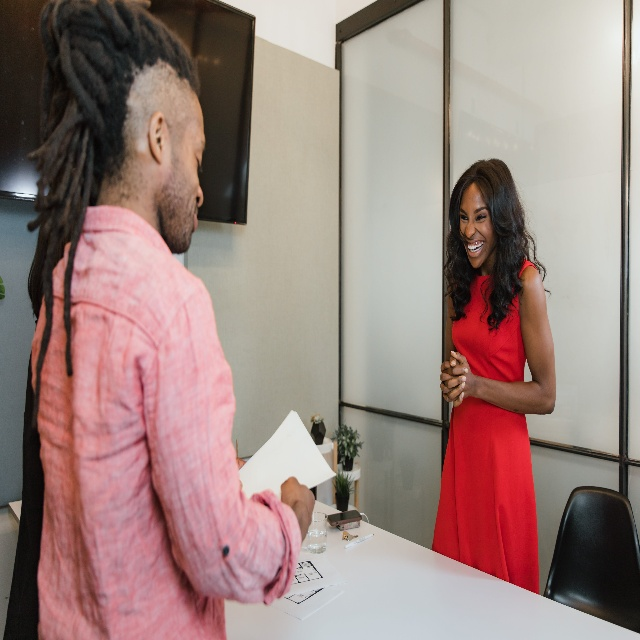Sin_guantes: (280, 476, 316, 542), (439, 349, 472, 407)
